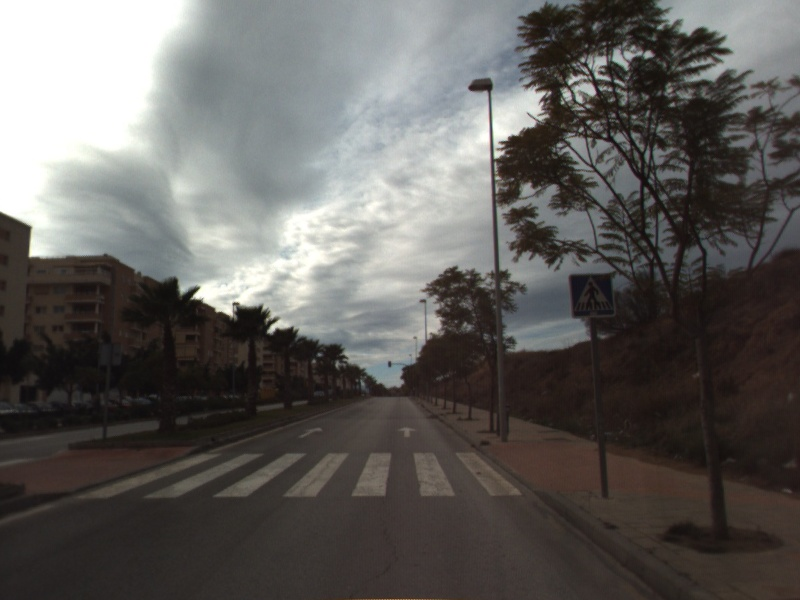STRAIGHT: (296, 425, 325, 440), (396, 425, 418, 439)
